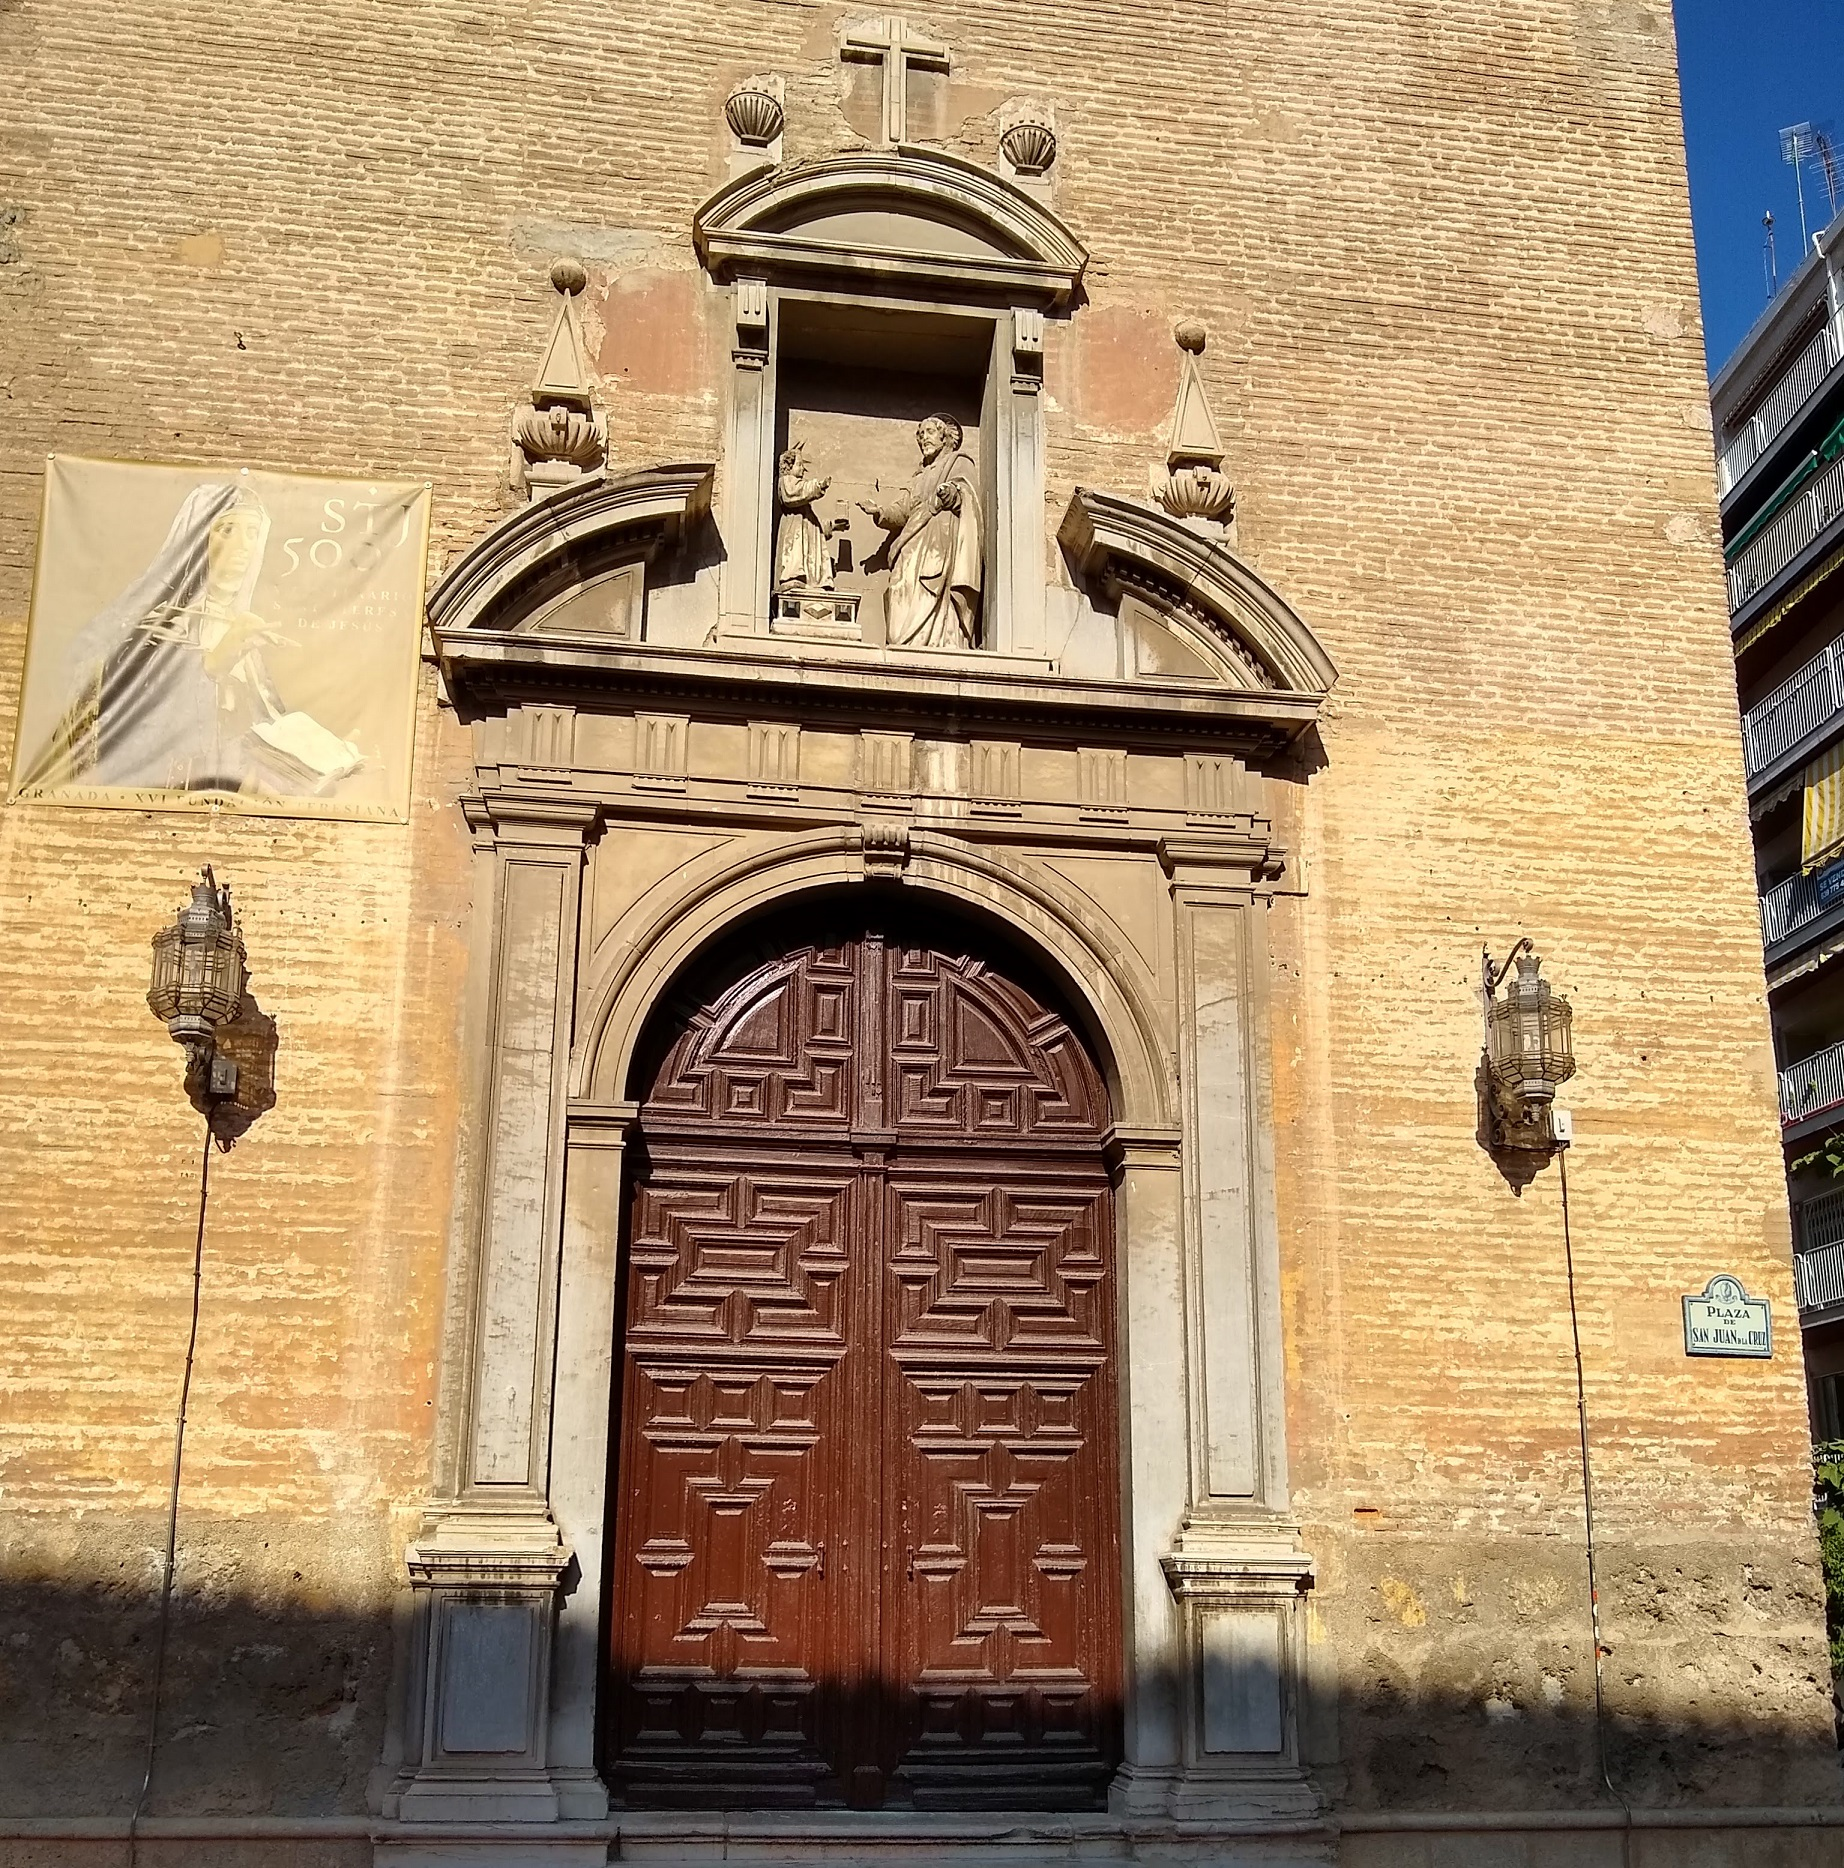arco-medio-punto: (611, 860, 1147, 1203)
fronton-curvo: (691, 135, 1103, 299)
fronton-partido: (420, 458, 1353, 741)
vano-adintelado: (724, 284, 1039, 660)
